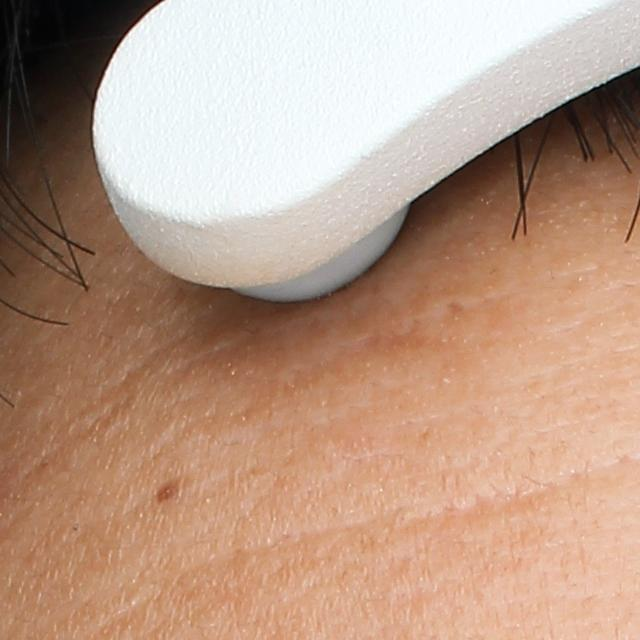nevus: (150, 476, 189, 506)
